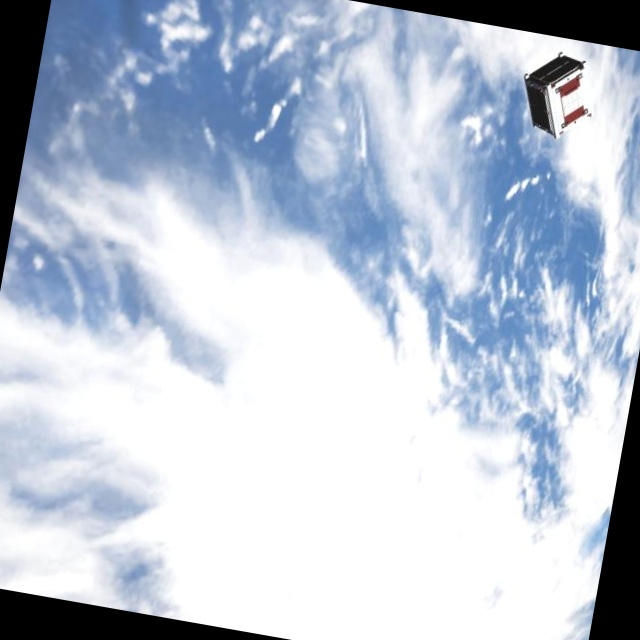medium_debris: (513, 45, 605, 142)
